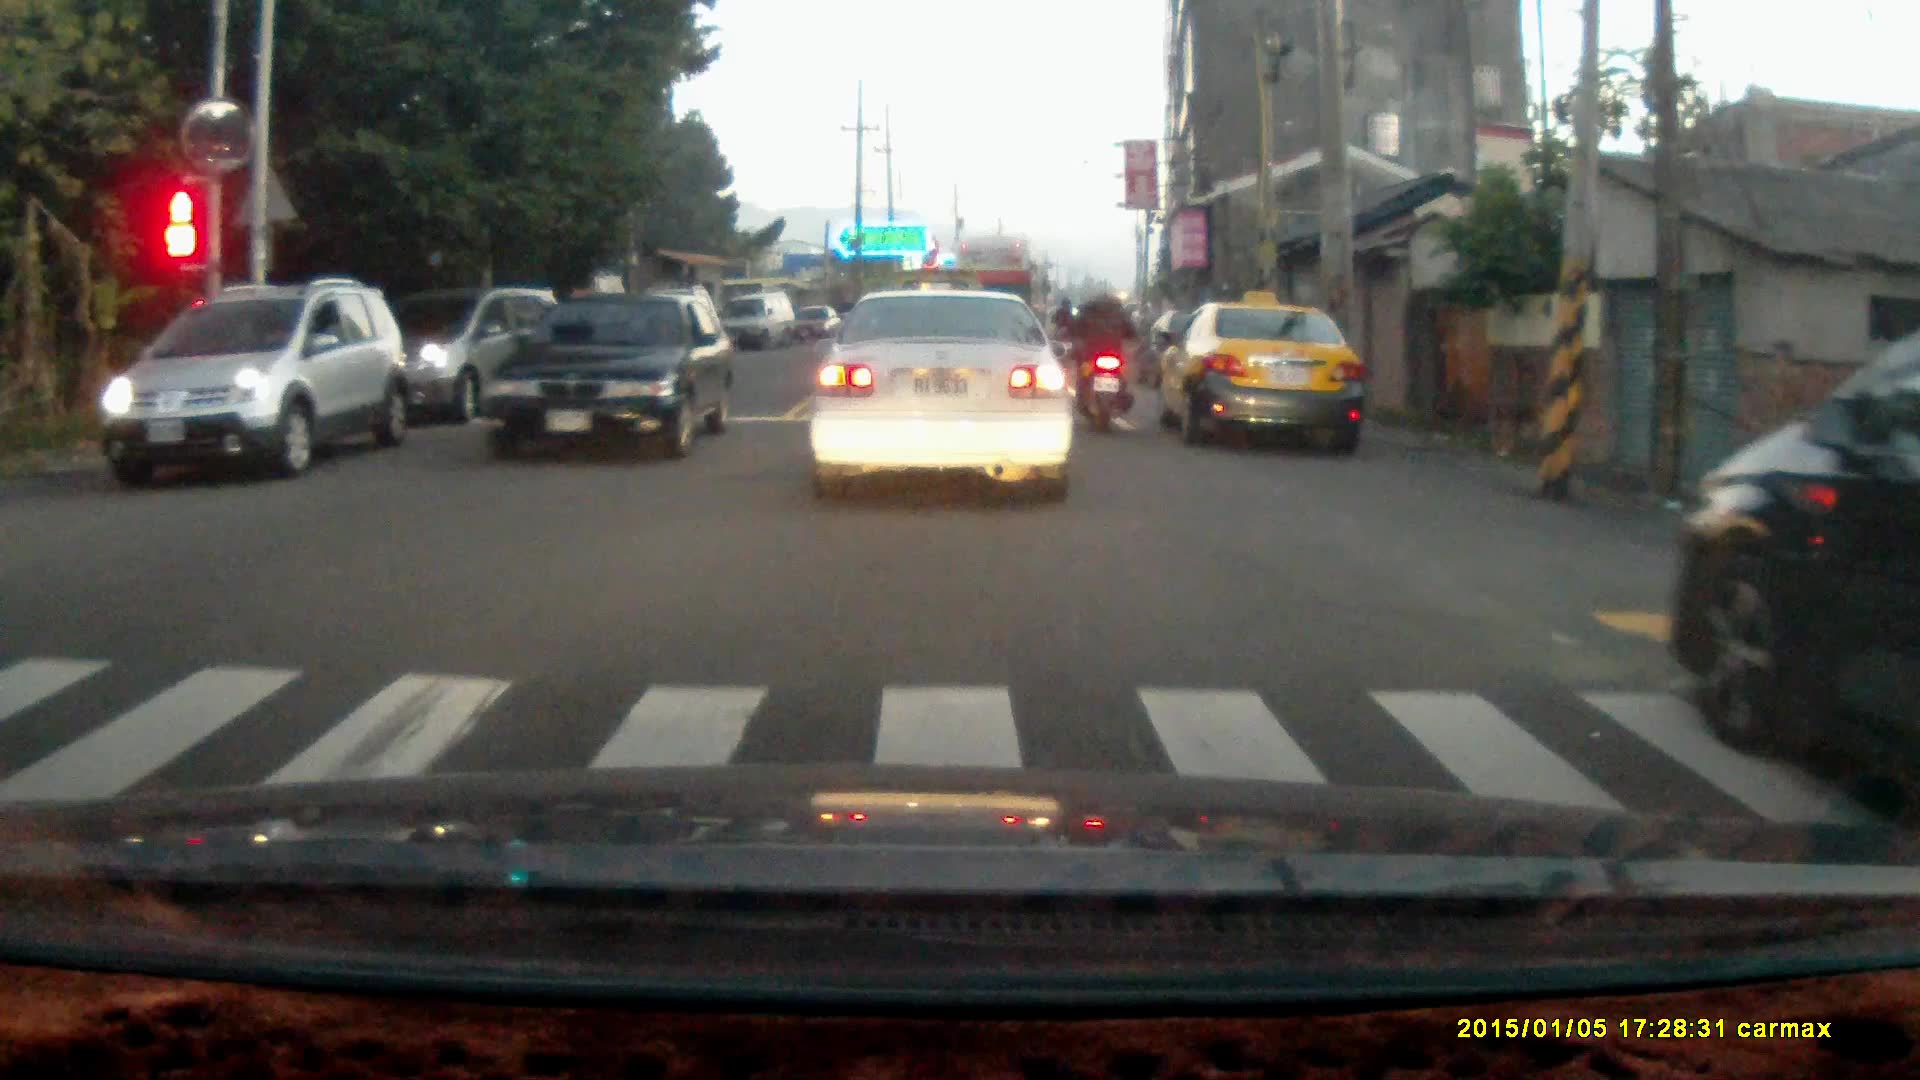rider: (1070, 275, 1141, 433)
vehicle: (1678, 329, 1920, 787), (102, 280, 404, 486), (809, 286, 1082, 502), (483, 286, 735, 464), (1162, 301, 1365, 451), (723, 288, 794, 356)
